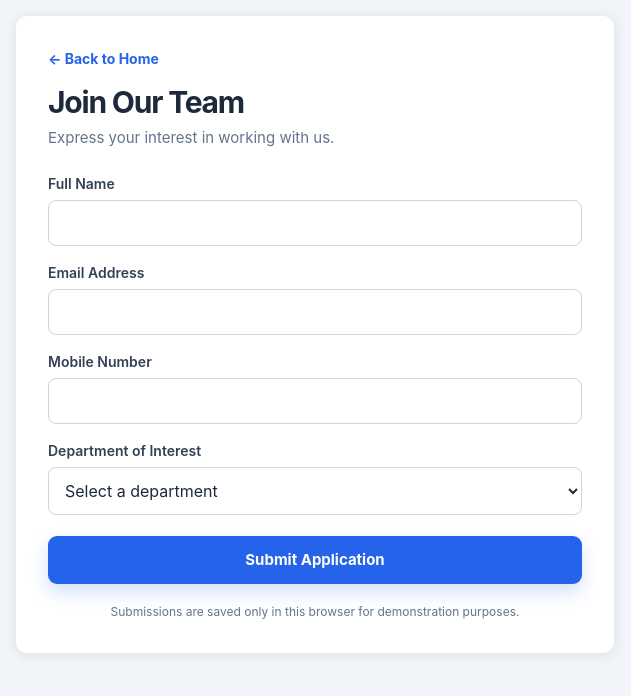
Test: candidate interest form › shows the exact duplicate email message without clearing the candidate draft
Type "Jordan Lee" into the field labelled "Full Name" at [315, 222], box [48,200,582,246]
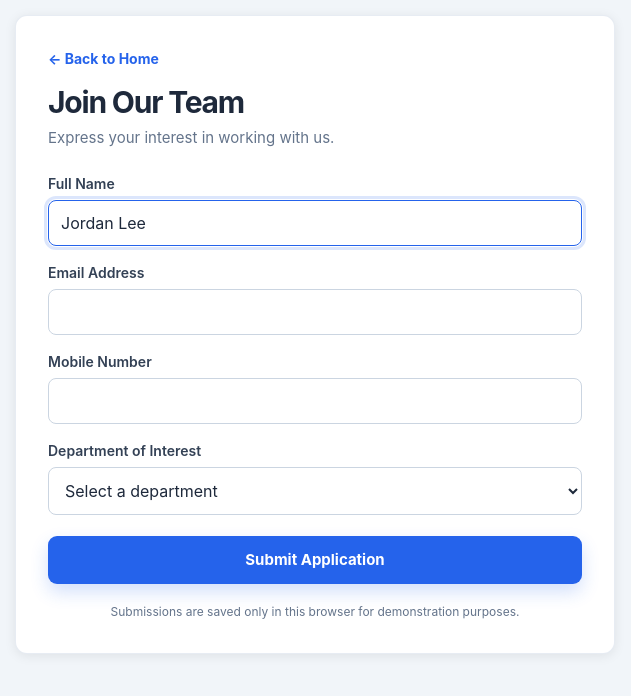
Type "jordan@example.test" into the field labelled "Email Address" at [315, 312], box [48,288,582,334]
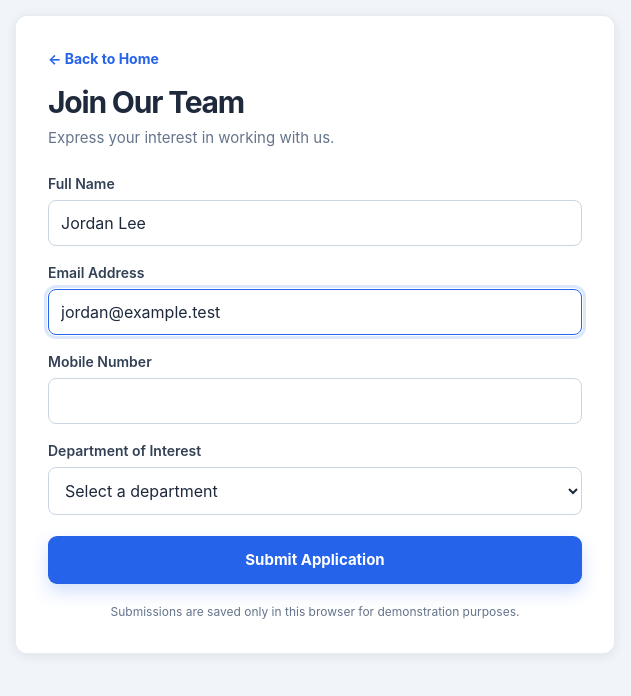
Type "5551234567" into the field labelled "Mobile Number" at [315, 400], box [48,378,582,424]
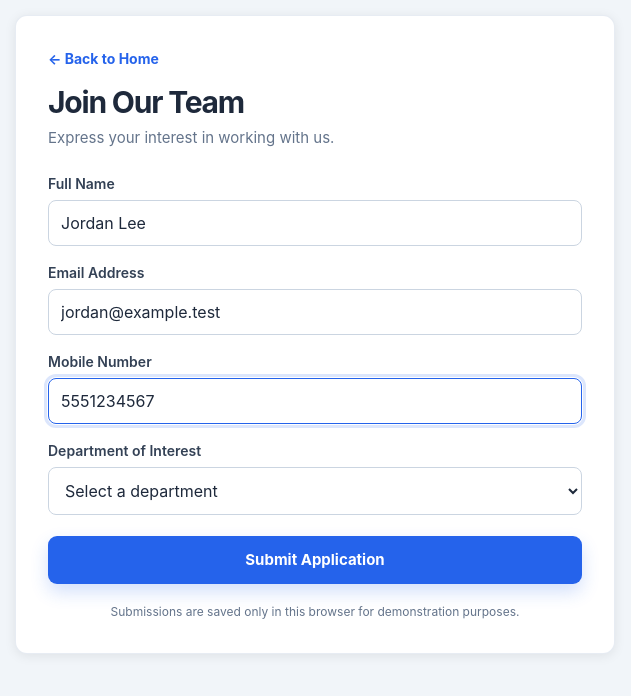
Select "Engineering" in the dropdown labelled "Department of Interest" at [315, 490], box [48,466,582,514]
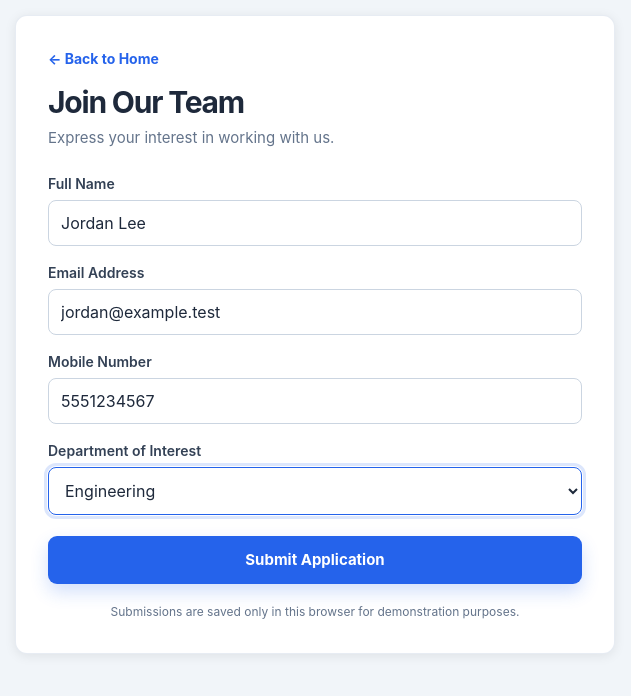
Click the button "Submit Application" at [315, 560], box [48,536,582,584]
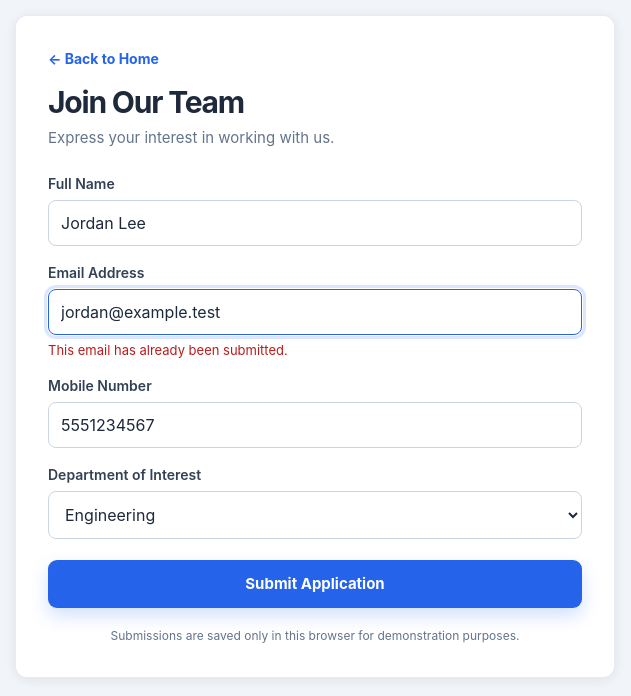
Result: the text "This email has already been submitted." is shown at [48,342,288,358]
